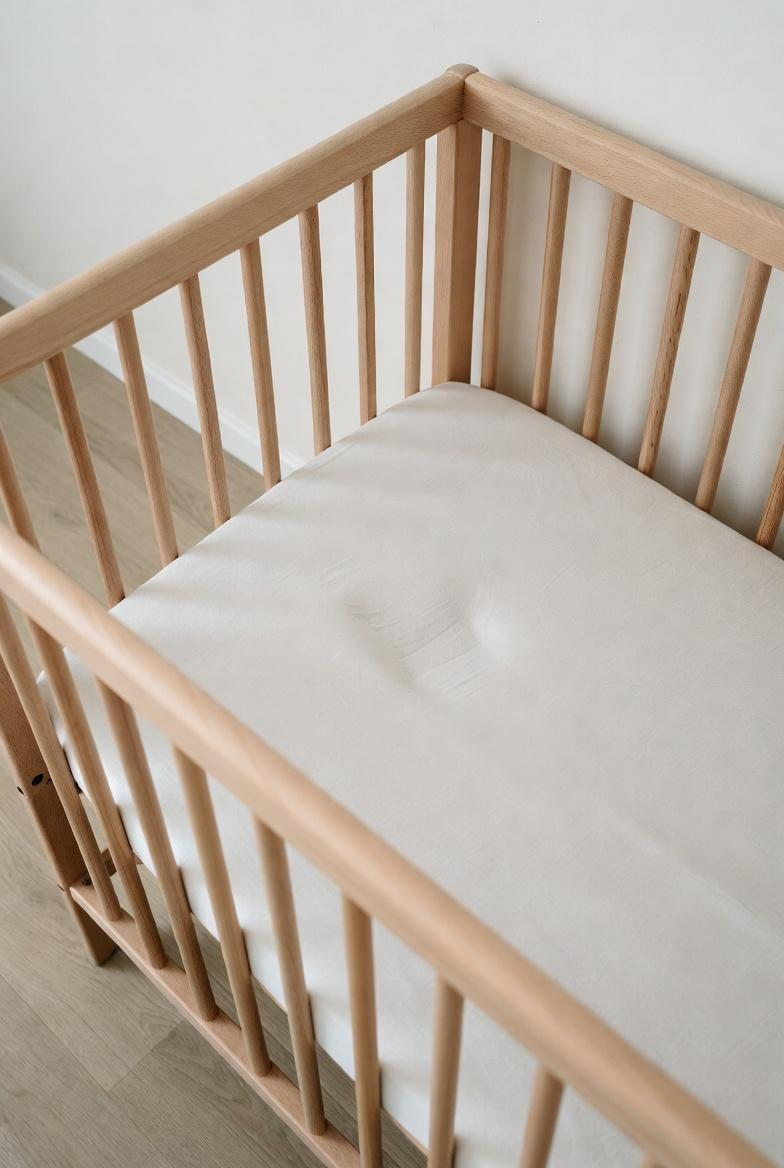crib: (0, 66, 784, 1168)
